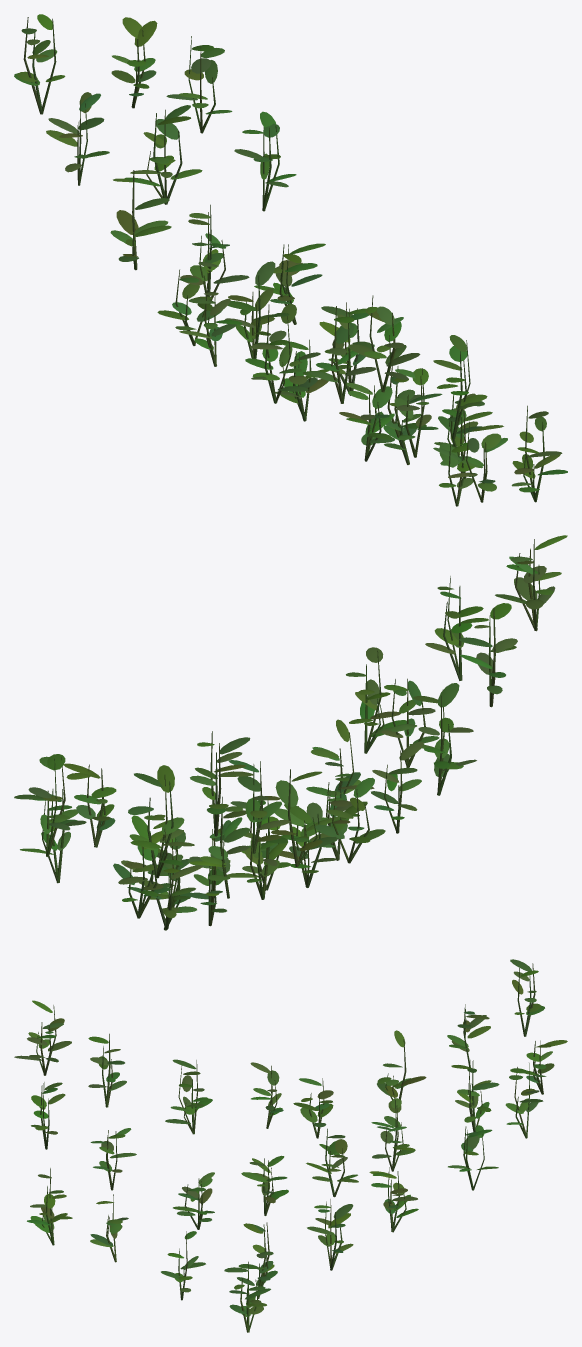
File: MGC_002.glb
3 renders of one model, top to bottom at view 1: azimuth 30°, elevation 25°; view 2: azimuth 150°, elevation 25°; view 3: azimuth 270°, elevation 25°, orthographic. The views are drawn at different scales.
Visible parts, largest first — view 1: moss_ground_cover_mgc_002; view 2: moss_ground_cover_mgc_002; view 3: moss_ground_cover_mgc_002.
Part boxes in pixels (left/top/right/bottom): moss_ground_cover_mgc_002: left=14, top=14, right=567, bottom=506; moss_ground_cover_mgc_002: left=14, top=535, right=567, bottom=930; moss_ground_cover_mgc_002: left=14, top=959, right=567, bottom=1332.
Size of the model in its own units: 0.8626 by 1.11 by 1.97.
